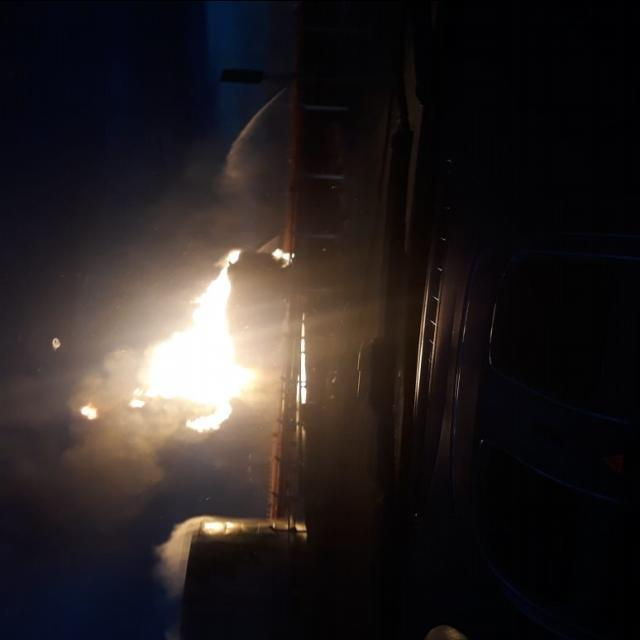Fire: (141, 269, 253, 444)
